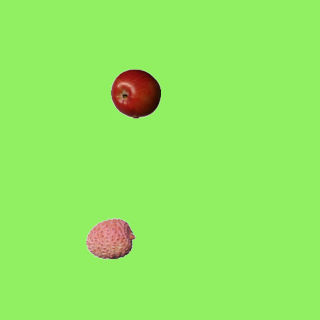Apple Braeburn: (110, 68, 160, 118)
Lychee: (85, 213, 135, 263)
